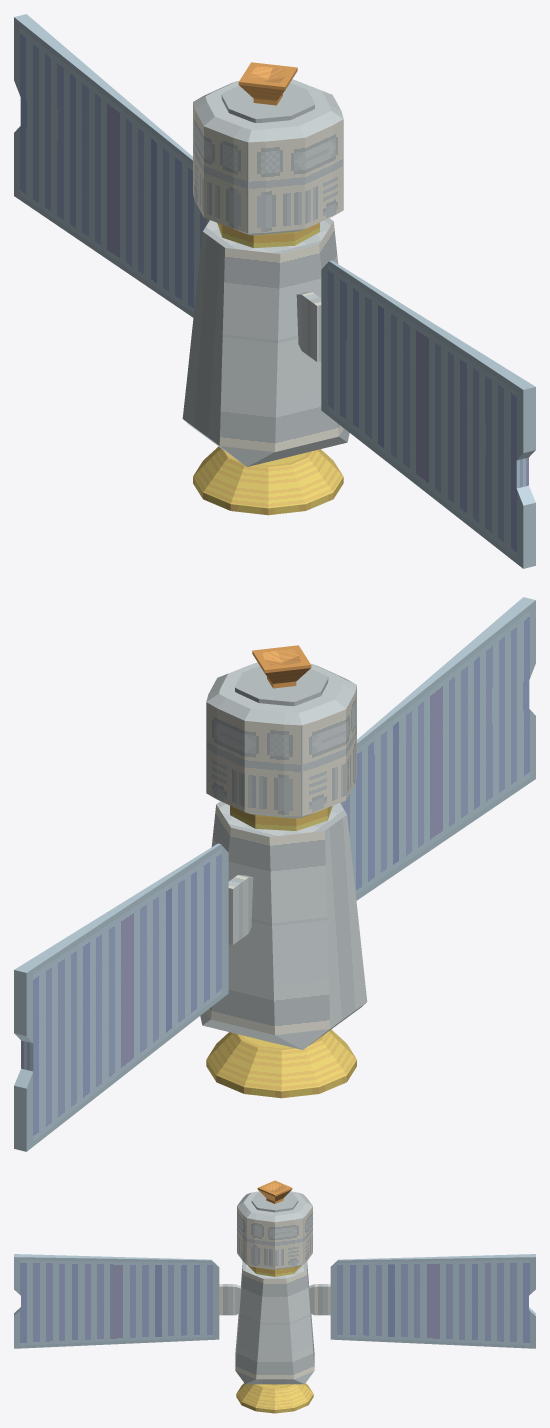
File: satellite.glb
The picture shows the model from 3 angles, top to bottom: view 1: azimuth 30°, elevation 25°; view 2: azimuth 150°, elevation 25°; view 3: azimuth 270°, elevation 25°; orthographic projection. The views are drawn at different scales.
Visible parts, largest first — view 1: panelsV2, mainV2, antenna, thruster; view 2: panelsV2, mainV2, antenna, thruster; view 3: panelsV2, mainV2, antenna, thruster.
Boxes of the visible parts, left/top/right/bottom form: panelsV2: left=14, top=14, right=535, bottom=568; mainV2: left=182, top=79, right=349, bottom=466; antenna: left=193, top=446, right=343, bottom=515; thruster: left=238, top=62, right=297, bottom=105; panelsV2: left=14, top=597, right=535, bottom=1151; mainV2: left=200, top=662, right=367, bottom=1049; antenna: left=206, top=1029, right=356, bottom=1098; thruster: left=252, top=645, right=311, bottom=688; panelsV2: left=14, top=1254, right=535, bottom=1348; mainV2: left=219, top=1191, right=330, bottom=1384; antenna: left=236, top=1383, right=313, bottom=1413; thruster: left=257, top=1180, right=292, bottom=1203.
Bounding box in the file's own units: 1 × 3.02 × 6.57.
4 materials, 4 textured.
